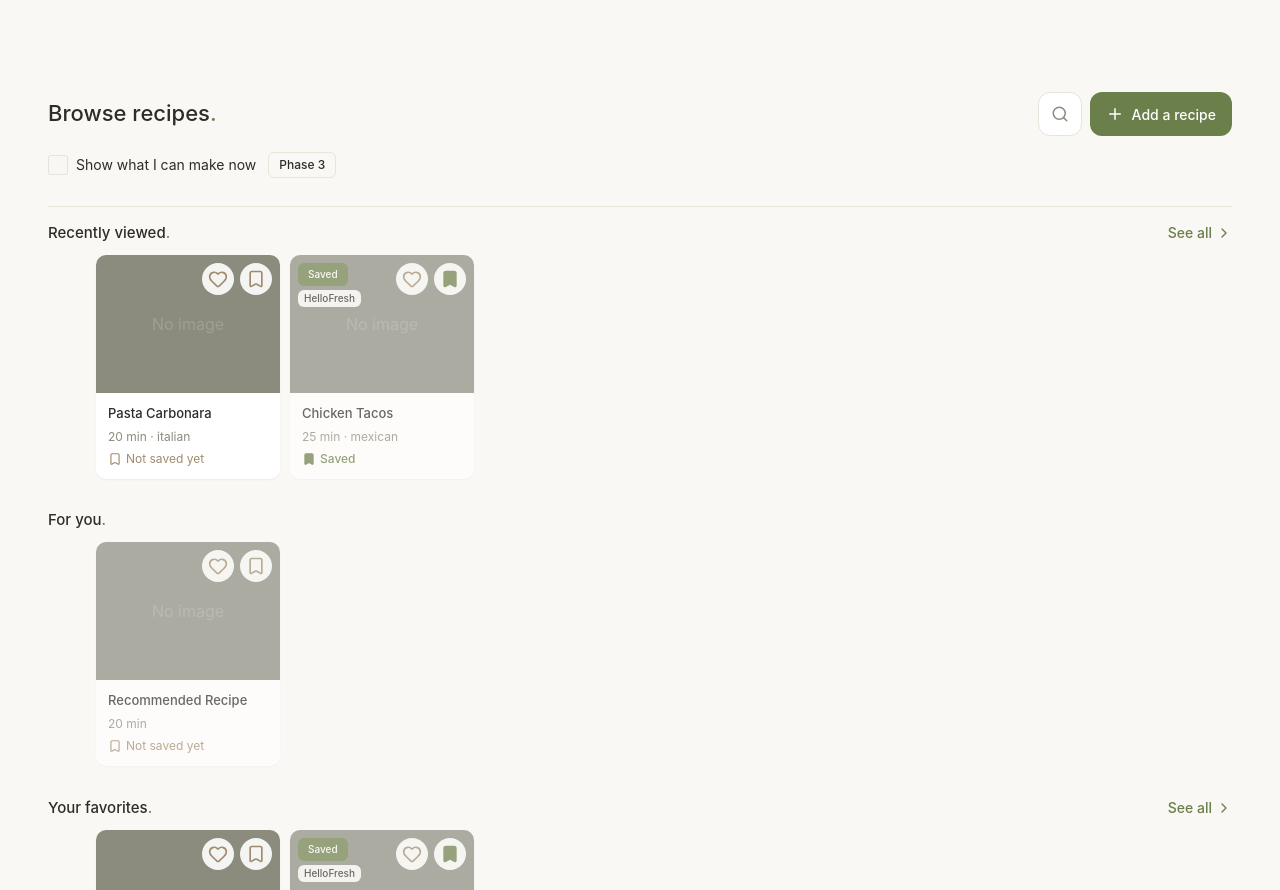
Scenario: Recipes Page › search functionality › transitions to grid view when typing in search bar
The image size is (1280, 890).
Click the button named "Search recipes". click: (1060, 114)
box: [1038,92,1082,136]
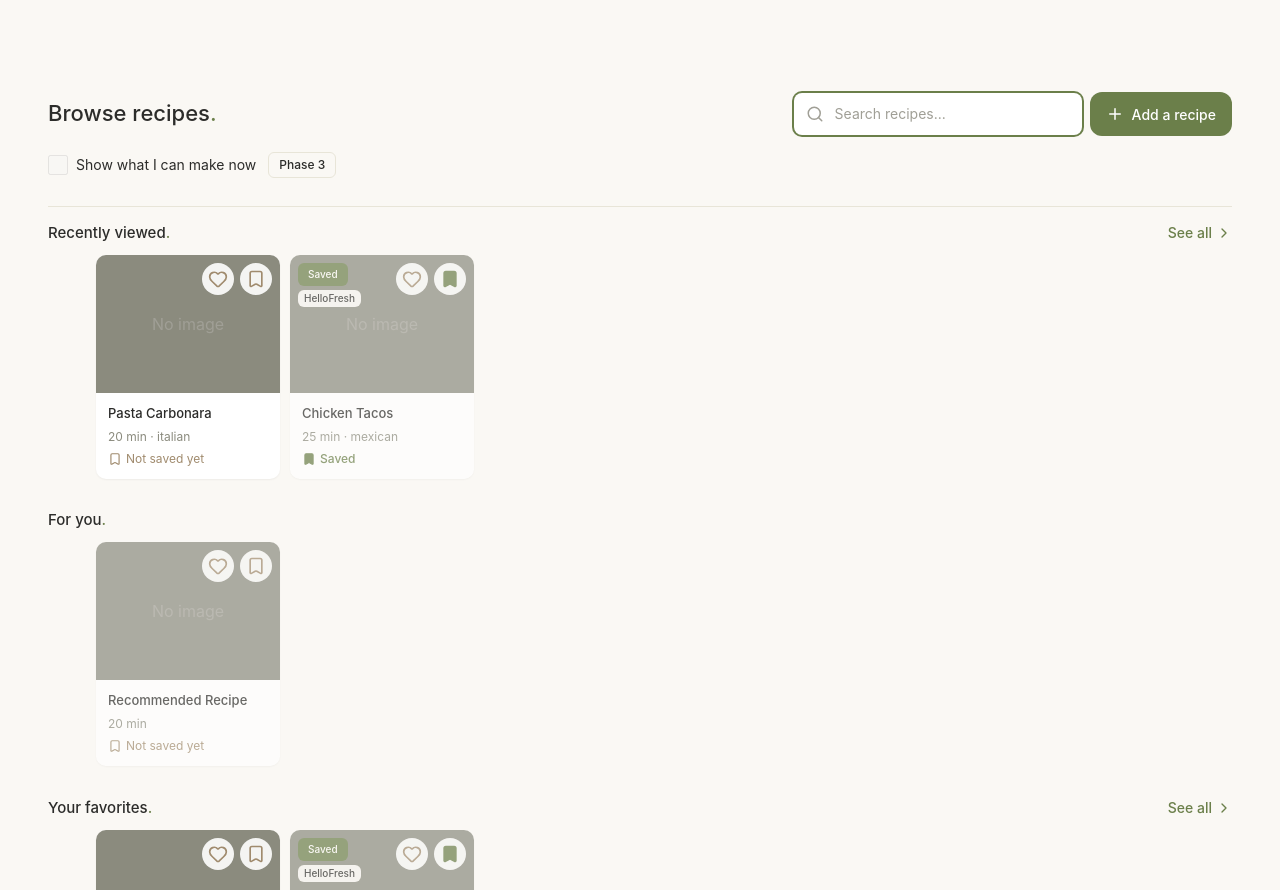
Type "pasta" into the field with placeholder "Search recipes...". click: (938, 114)
box: [794,93,1082,135]
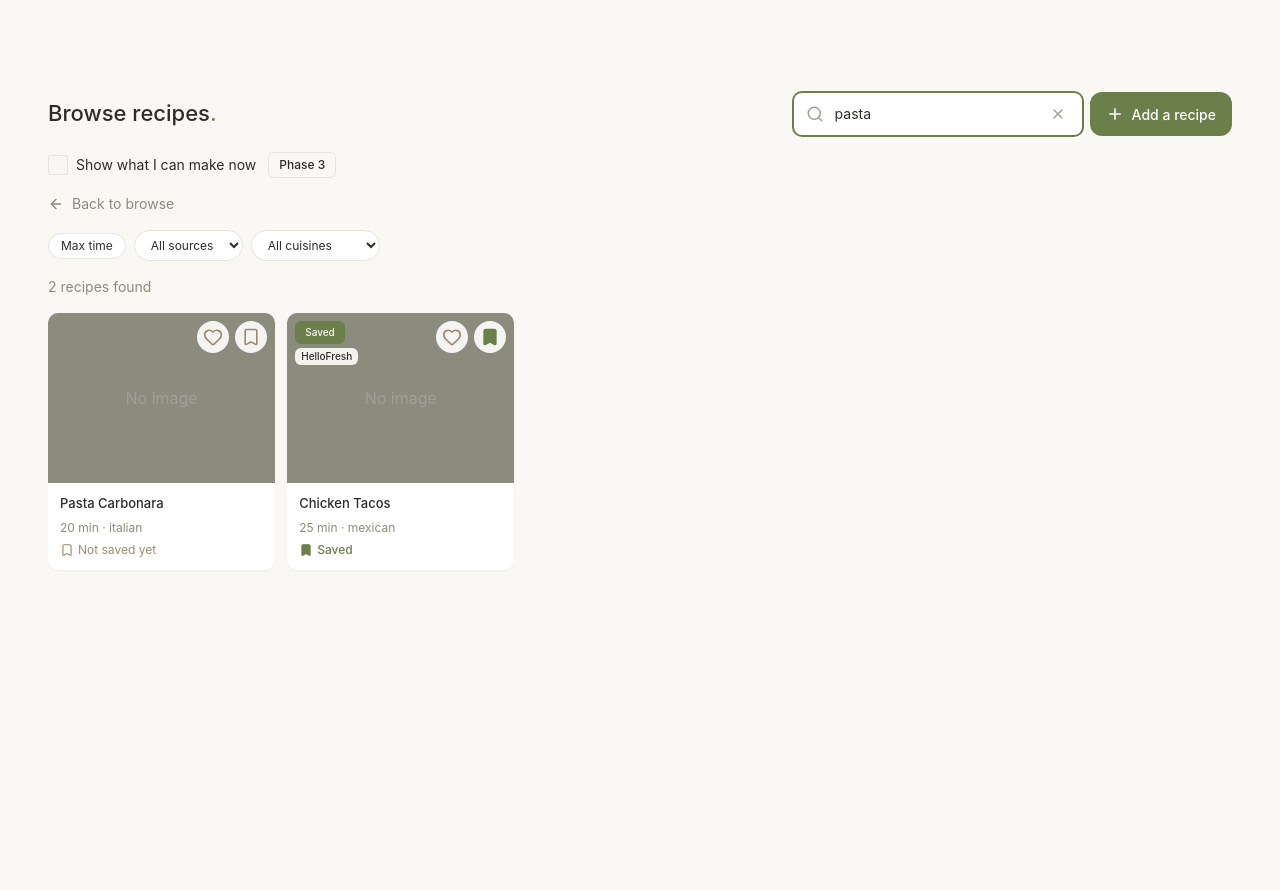
Now the button with aria-label "Back to browse view" is shown, box [48,194,174,214]
